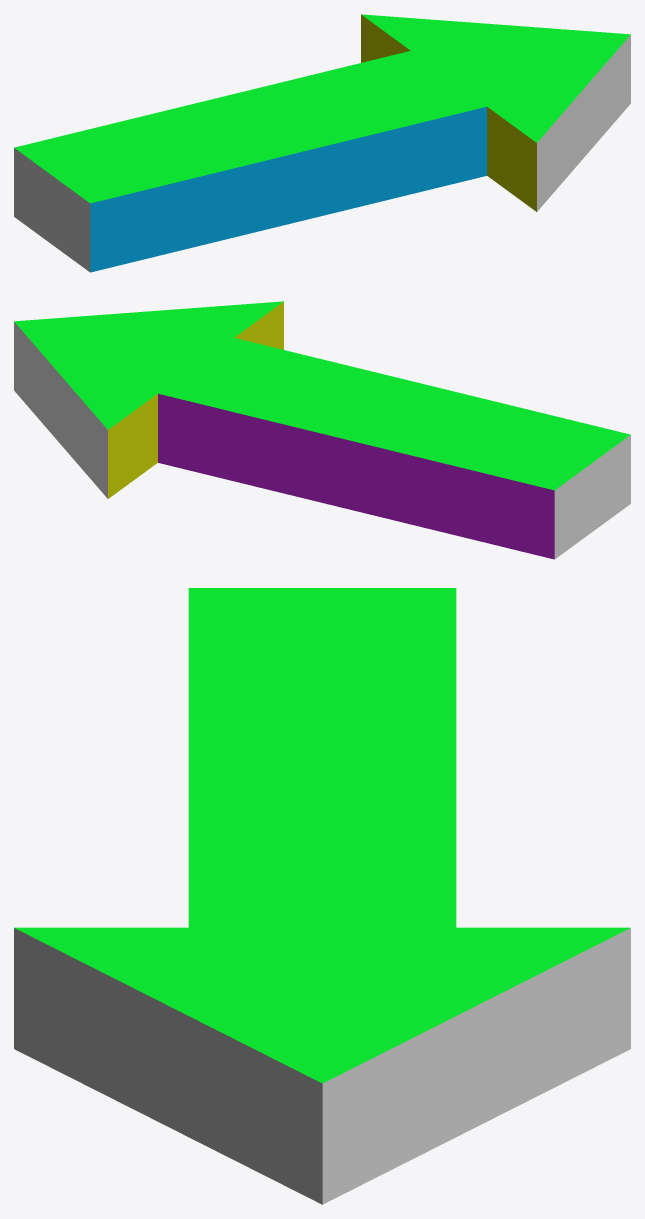
Rendered from arrow.glb.
3 renders of one model, top to bottom at view 1: azimuth 30°, elevation 25°; view 2: azimuth 150°, elevation 25°; view 3: azimuth 270°, elevation 25°, orthographic. The views are drawn at different scales.
Visible parts, largest first — view 1: Plane; view 2: Plane; view 3: Plane.
Part boxes in pixels (x1=…): Plane: x1=14, y1=14, x2=630, y2=272; Plane: x1=14, y1=301, x2=630, y2=559; Plane: x1=14, y1=588, x2=630, y2=1204.
Bounding box in the file's own units: 8.76 × 1 × 4.61.
